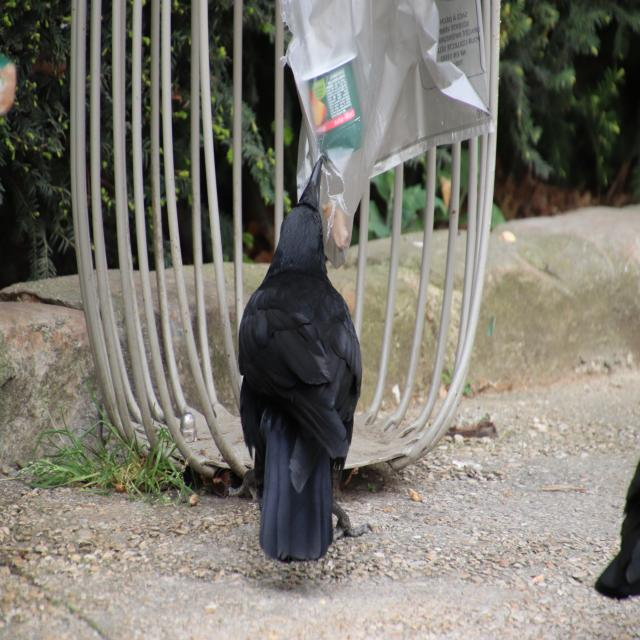paper: (303, 36, 466, 166)
